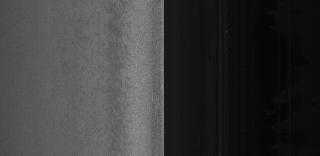silk spot: (114, 61, 138, 95)
